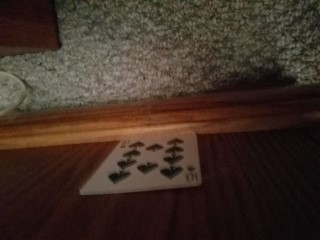TenOfSpades: (80, 134, 200, 197)
